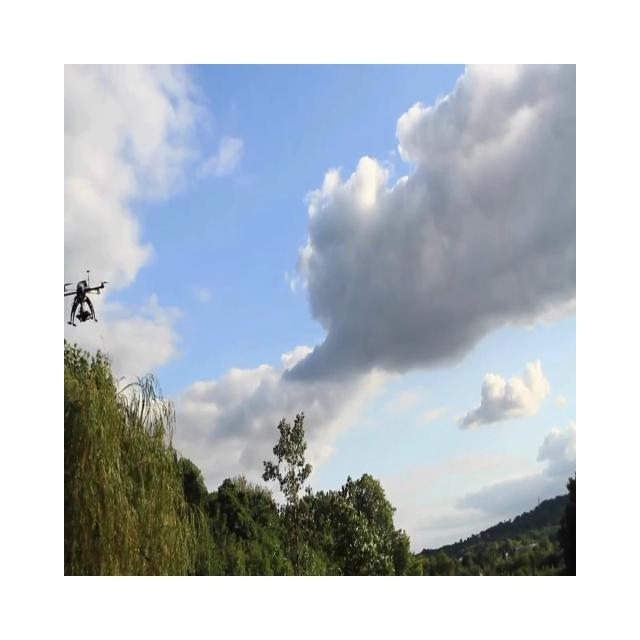drone: (63, 269, 109, 327)
